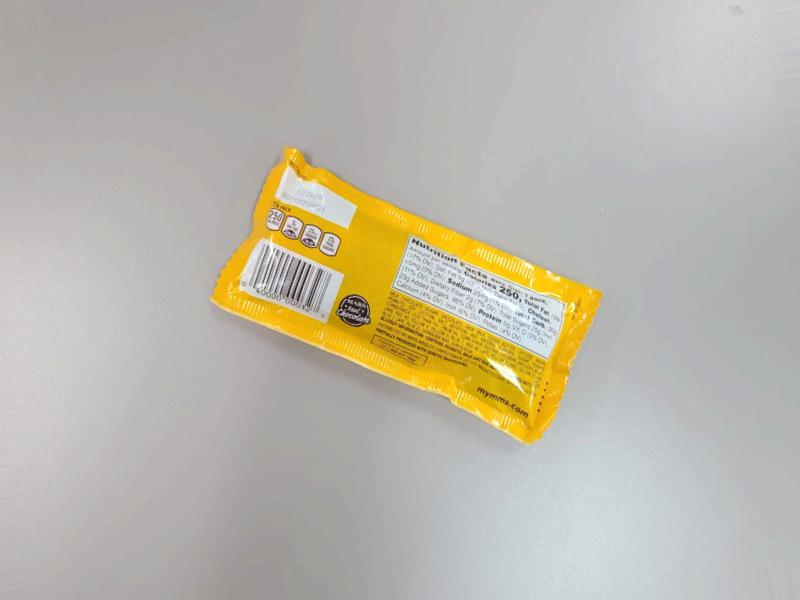m&m: (226, 145, 590, 442)
